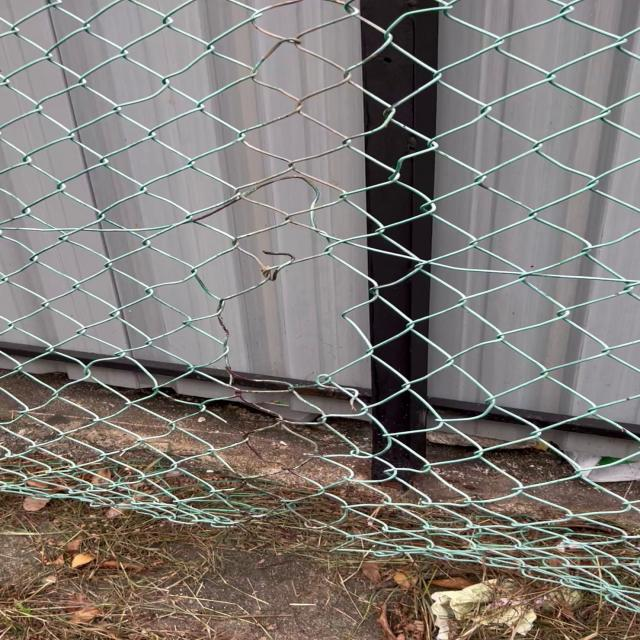fence line: (215, 247, 381, 395)
